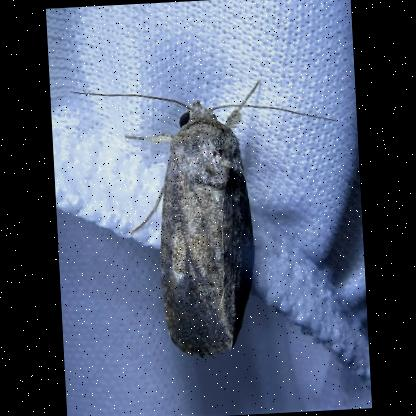Fall Armyworm Moth: (66, 72, 351, 368)
